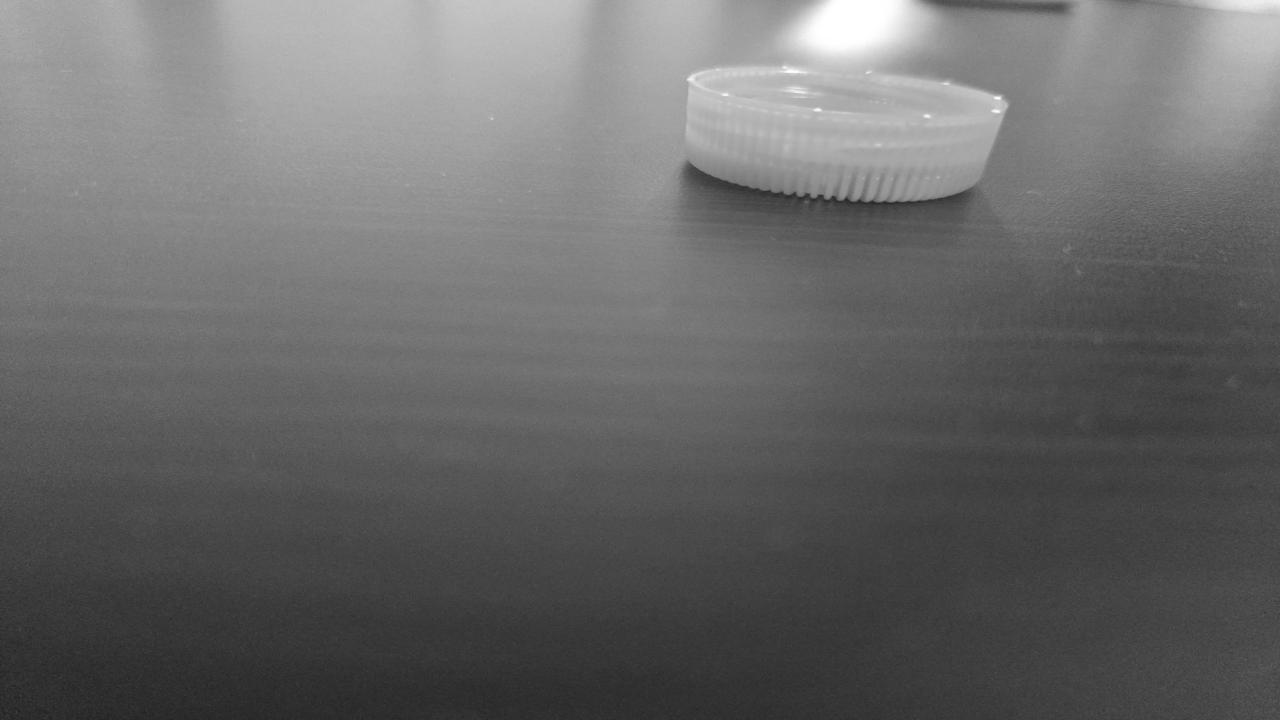bottle_cap: (675, 64, 1011, 206)
